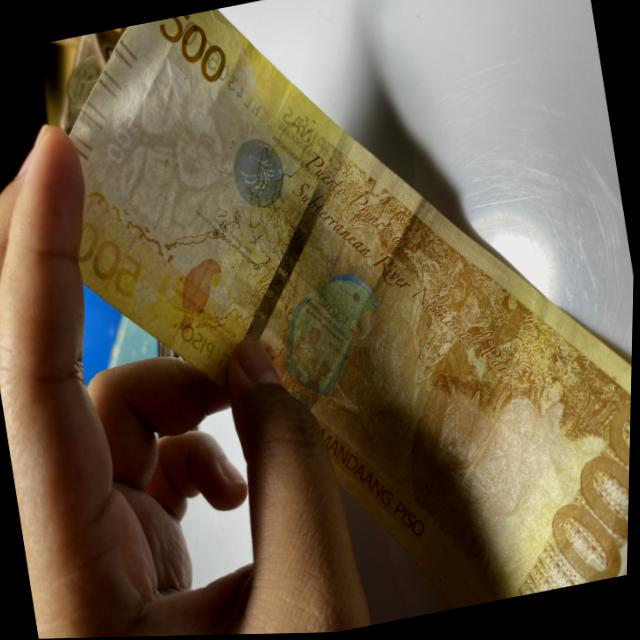500_big_parrot: (266, 266, 396, 422)
500_parrot_watermark: (169, 249, 232, 339)
value_watermark: (96, 105, 143, 171)
watermark: (97, 60, 250, 251)
